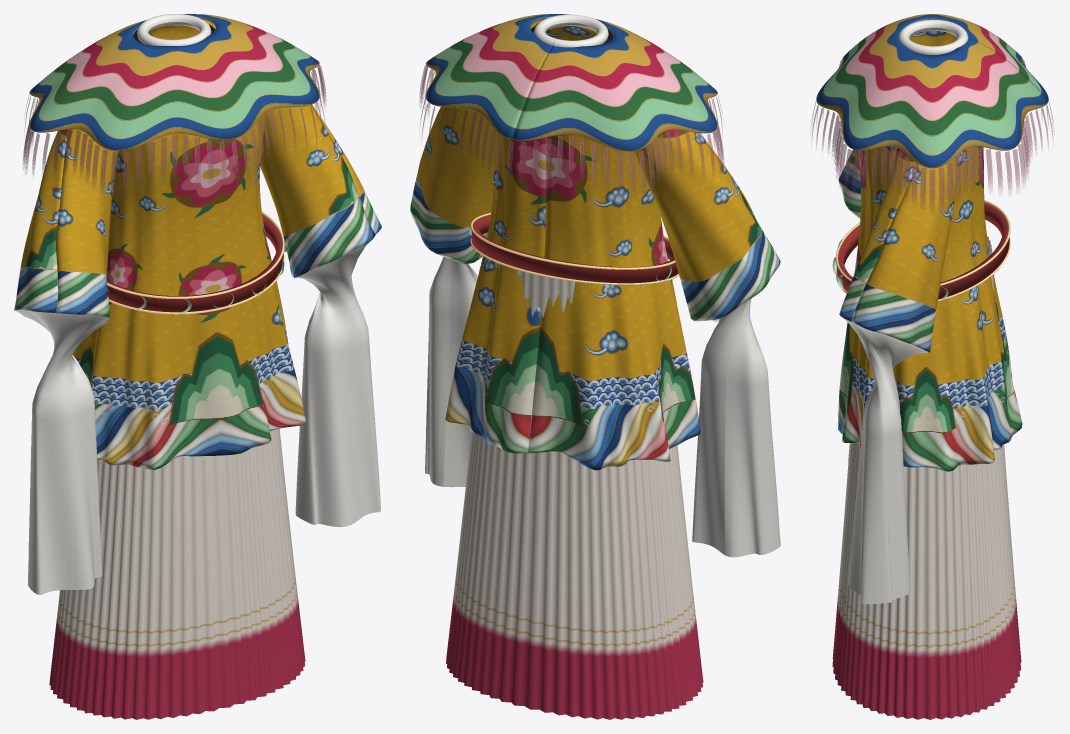
File: costume_yangguifei.glb
3 views of the same model, side by side, from view 1: azimuth 30°, elevation 25°; view 2: azimuth 150°, elevation 25°; view 3: azimuth 270°, elevation 25° (orthographic). The views are drawn at different scales.
Parts seen in each view (by area): view 1: Skirt, Robe, Yunjian, Shuixiu1, Shuixiu-1, Sleeve-1, Sleeve1, Yunjian_Tassel, Yudai, Collar, Yudai_Gold; view 2: Skirt, Robe, Yunjian, Shuixiu-1, Sleeve-1, Sleeve1, Shuixiu1, Yunjian_Tassel, Yudai, Collar, Yudai_Gold; view 3: Skirt, Robe, Yunjian, Sleeve1, Shuixiu1, Yunjian_Tassel, Yudai, Collar, Sleeve-1, Yudai_Gold.
Part boxes in pixels (x1,y1,x2,y2): Skirt: (49, 428, 305, 719); Robe: (72, 19, 306, 469); Yunjian: (29, 14, 319, 150); Shuixiu1: (295, 243, 380, 527); Shuixiu-1: (14, 310, 109, 594); Sleeve-1: (14, 129, 118, 317); Sleeve1: (260, 104, 381, 277); Yunjian_Tassel: (23, 65, 326, 195); Yudai: (107, 214, 283, 312); Collar: (137, 14, 211, 45); Yudai_Gold: (107, 211, 284, 314); Skirt: (446, 262, 703, 719); Robe: (445, 20, 700, 470); Yunjian: (425, 14, 717, 151); Shuixiu-1: (692, 298, 780, 557); Sleeve-1: (634, 130, 780, 321); Sleeve1: (410, 107, 493, 263); Shuixiu1: (425, 257, 477, 487); Yunjian_Tassel: (419, 65, 724, 194); Yudai: (471, 215, 678, 283); Collar: (534, 14, 608, 47); Yudai_Gold: (470, 212, 678, 285); Skirt: (832, 236, 1021, 719); Robe: (838, 30, 1022, 471); Yunjian: (816, 14, 1048, 168); Sleeve1: (839, 148, 957, 352); Shuixiu1: (842, 317, 929, 604); Yunjian_Tassel: (810, 60, 1054, 211); Yudai: (837, 202, 1009, 299); Collar: (898, 19, 968, 54); Sleeve-1: (838, 36, 957, 218); Yudai_Gold: (835, 200, 1010, 301).
Size of the model in its own units: 0.8623 by 1.51 by 0.534.
Materials: 9 (5 with a texture image).
